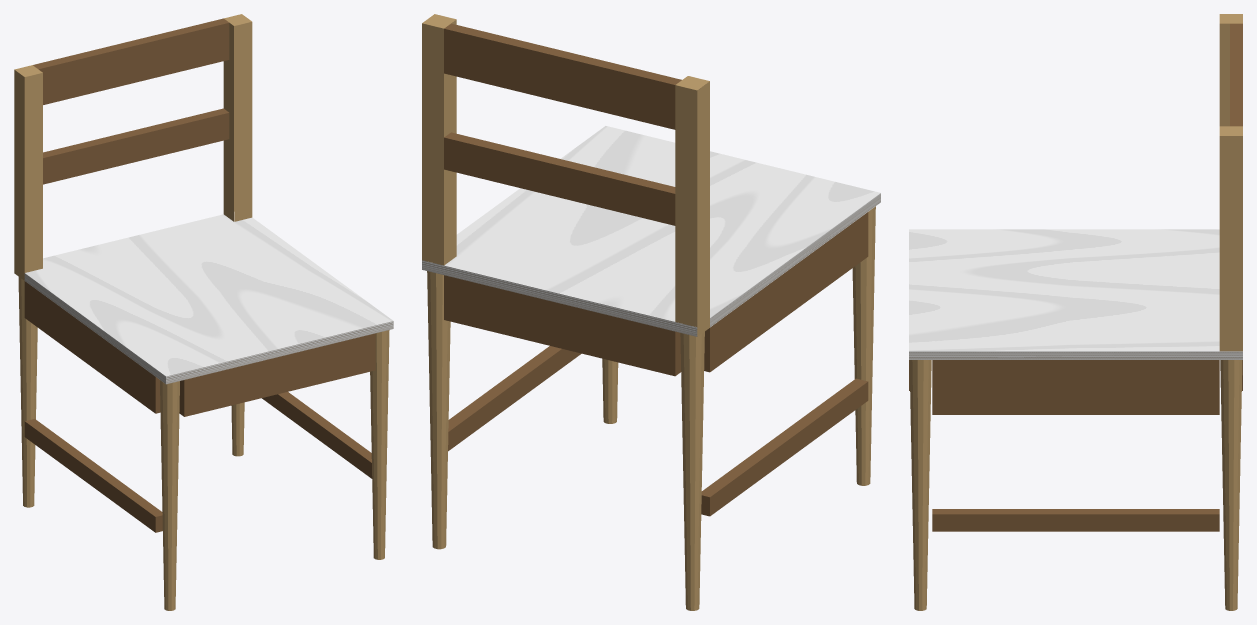
The model's file is ATL-DCH-std.glb.
3 views of the same model, side by side, from view 1: azimuth 30°, elevation 25°; view 2: azimuth 150°, elevation 25°; view 3: azimuth 270°, elevation 25° (orthographic). The views are drawn at different scales.
Parts seen in each view (by area): view 1: seat:sheet:eyJtIjoicGx5Iiwic2lkZSI6ImZhY2UiLCJzZWVkIjo2LCJ2Z, leg-bl:pbr, back-top:pbr, rail-f:pbr, leg-br:pbr, back-mid:pbr, rail-l:pbr, leg-fl:pbr, stretcher-l:pbr, leg-fr:pbr, stretcher-r:pbr, seat:sheet:eyJtIjoicGx5Iiwic2lkZSI6ImVkZ2UtZW5kIiwic2VlZCI6N (+1 smaller); view 2: seat:sheet:eyJtIjoicGx5Iiwic2lkZSI6ImZhY2UiLCJzZWVkIjo2LCJ2Z, leg-bl:pbr, leg-br:pbr, back-top:pbr, rail-b:pbr, back-mid:pbr, rail-l:pbr, stretcher-l:pbr, leg-fl:pbr, stretcher-r:pbr, seat:sheet:eyJtIjoicGx5Iiwic2lkZSI6ImVkZ2UtZW5kIiwic2VlZCI6N, seat:sheet:eyJtIjoicGx5Iiwic2lkZSI6ImVkZ2UtbG9uZyIsInNlZWQiO (+1 smaller); view 3: seat:sheet:eyJtIjoicGx5Iiwic2lkZSI6ImZhY2UiLCJzZWVkIjo2LCJ2Z, rail-r:pbr, leg-br:pbr, stretcher-r:pbr, leg-fr:pbr, stretcher-l:pbr, seat:sheet:eyJtIjoicGx5Iiwic2lkZSI6ImVkZ2UtbG9uZyIsInNlZWQiO, leg-bl:pbr, back-top:pbr.
Part boxes in pixels (<box>): seat:sheet:eyJtIjoicGx5Iiwic2lkZSI6ImZhY2UiLCJzZWVkIjo2LCJ2Z: <box>25,212,393,376</box>; leg-bl:pbr: <box>14,65,42,507</box>; back-top:pbr: <box>33,18,229,104</box>; rail-f:pbr: <box>179,333,375,416</box>; leg-br:pbr: <box>223,14,252,456</box>; back-mid:pbr: <box>43,108,229,184</box>; rail-l:pbr: <box>24,281,160,413</box>; leg-fl:pbr: <box>160,380,179,610</box>; stretcher-l:pbr: <box>24,419,162,532</box>; leg-fr:pbr: <box>370,330,389,559</box>; stretcher-r:pbr: <box>262,392,372,478</box>; seat:sheet:eyJtIjoicGx5Iiwic2lkZSI6ImVkZ2UtZW5kIiwic2VlZCI6N: <box>166,321,393,384</box>; seat:sheet:eyJtIjoicGx5Iiwic2lkZSI6ImZhY2UiLCJzZWVkIjo2LCJ2Z: <box>444,126,880,321</box>; leg-bl:pbr: <box>675,76,709,610</box>; leg-br:pbr: <box>422,14,456,549</box>; back-top:pbr: <box>444,23,681,129</box>; rail-b:pbr: <box>444,275,681,376</box>; back-mid:pbr: <box>444,132,675,225</box>; rail-l:pbr: <box>704,212,868,372</box>; stretcher-l:pbr: <box>701,378,868,516</box>; leg-fl:pbr: <box>852,206,875,485</box>; stretcher-r:pbr: <box>448,346,581,451</box>; seat:sheet:eyJtIjoicGx5Iiwic2lkZSI6ImVkZ2UtZW5kIiwic2VlZCI6N: <box>422,260,697,336</box>; seat:sheet:eyJtIjoicGx5Iiwic2lkZSI6ImVkZ2UtbG9uZyIsInNlZWQiO: <box>710,193,880,327</box>; seat:sheet:eyJtIjoicGx5Iiwic2lkZSI6ImZhY2UiLCJzZWVkIjo2LCJ2Z: <box>909,229,1219,351</box>; rail-r:pbr: <box>932,360,1219,400</box>; leg-br:pbr: <box>1219,126,1242,610</box>; stretcher-r:pbr: <box>932,509,1219,531</box>; leg-fr:pbr: <box>909,360,931,610</box>; stretcher-l:pbr: <box>932,401,1219,414</box>; seat:sheet:eyJtIjoicGx5Iiwic2lkZSI6ImVkZ2UtbG9uZyIsInNlZWQiO: <box>909,351,1242,359</box>; leg-bl:pbr: <box>1219,14,1242,126</box>; back-top:pbr: <box>1230,23,1242,126</box>.
Bounding box in the file's own units: 0.4501 × 0.82 × 0.52.
Materials: 15 (3 with a texture image).
